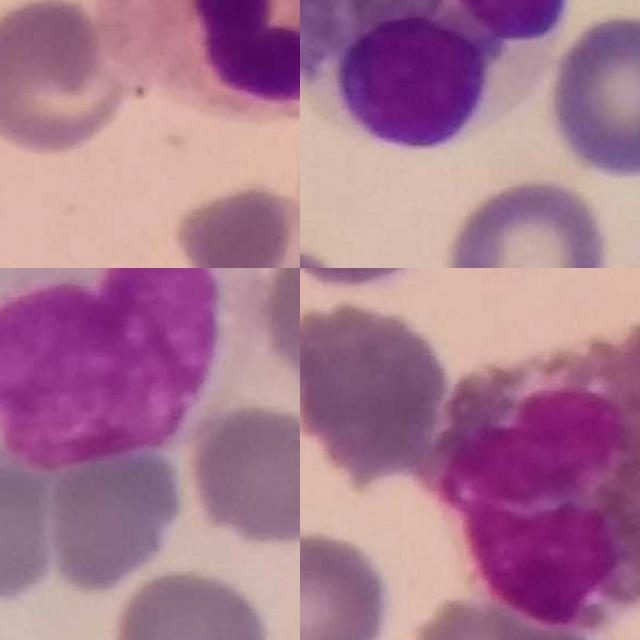Eosinophil: (435, 325, 640, 631), (300, 0, 565, 154)
Monocyte: (0, 268, 266, 475)
Neutrophil: (90, 0, 300, 123)
